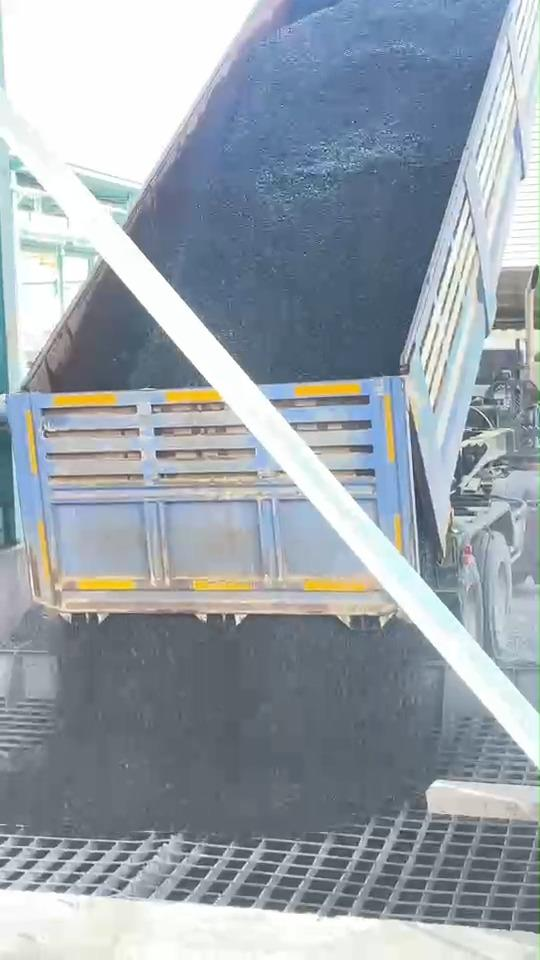gravel: (165, 0, 505, 384), (0, 617, 441, 835), (131, 324, 203, 386), (0, 607, 66, 655)
